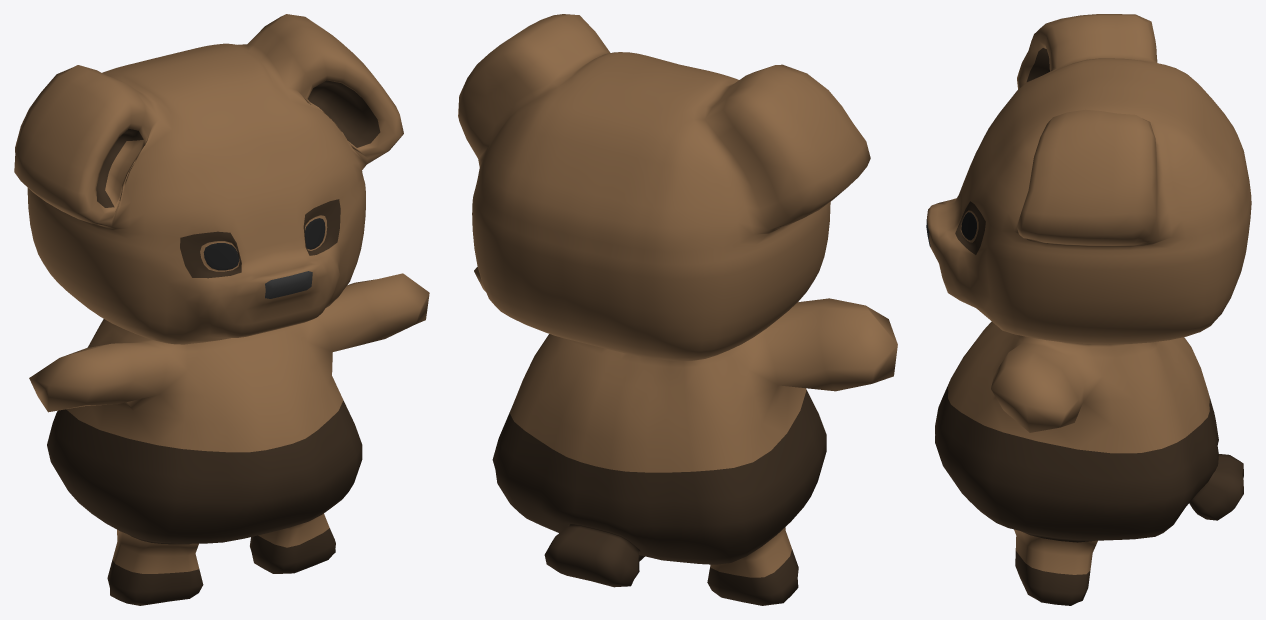
File: toy.fbx
3 renders of one model, left to right at view 1: azimuth 30°, elevation 25°; view 2: azimuth 150°, elevation 25°; view 3: azimuth 270°, elevation 25°, orthographic. The views are drawn at different scales.
Parts seen in each view (by area): view 1: Teddy; view 2: Teddy; view 3: Teddy.
Boxes of the visible parts, <box> form: Teddy: <box>14,14,429,605</box>; Teddy: <box>458,14,897,605</box>; Teddy: <box>926,14,1251,605</box>.
Size of the model in its own units: 1.19 by 1.54 by 0.9087.
